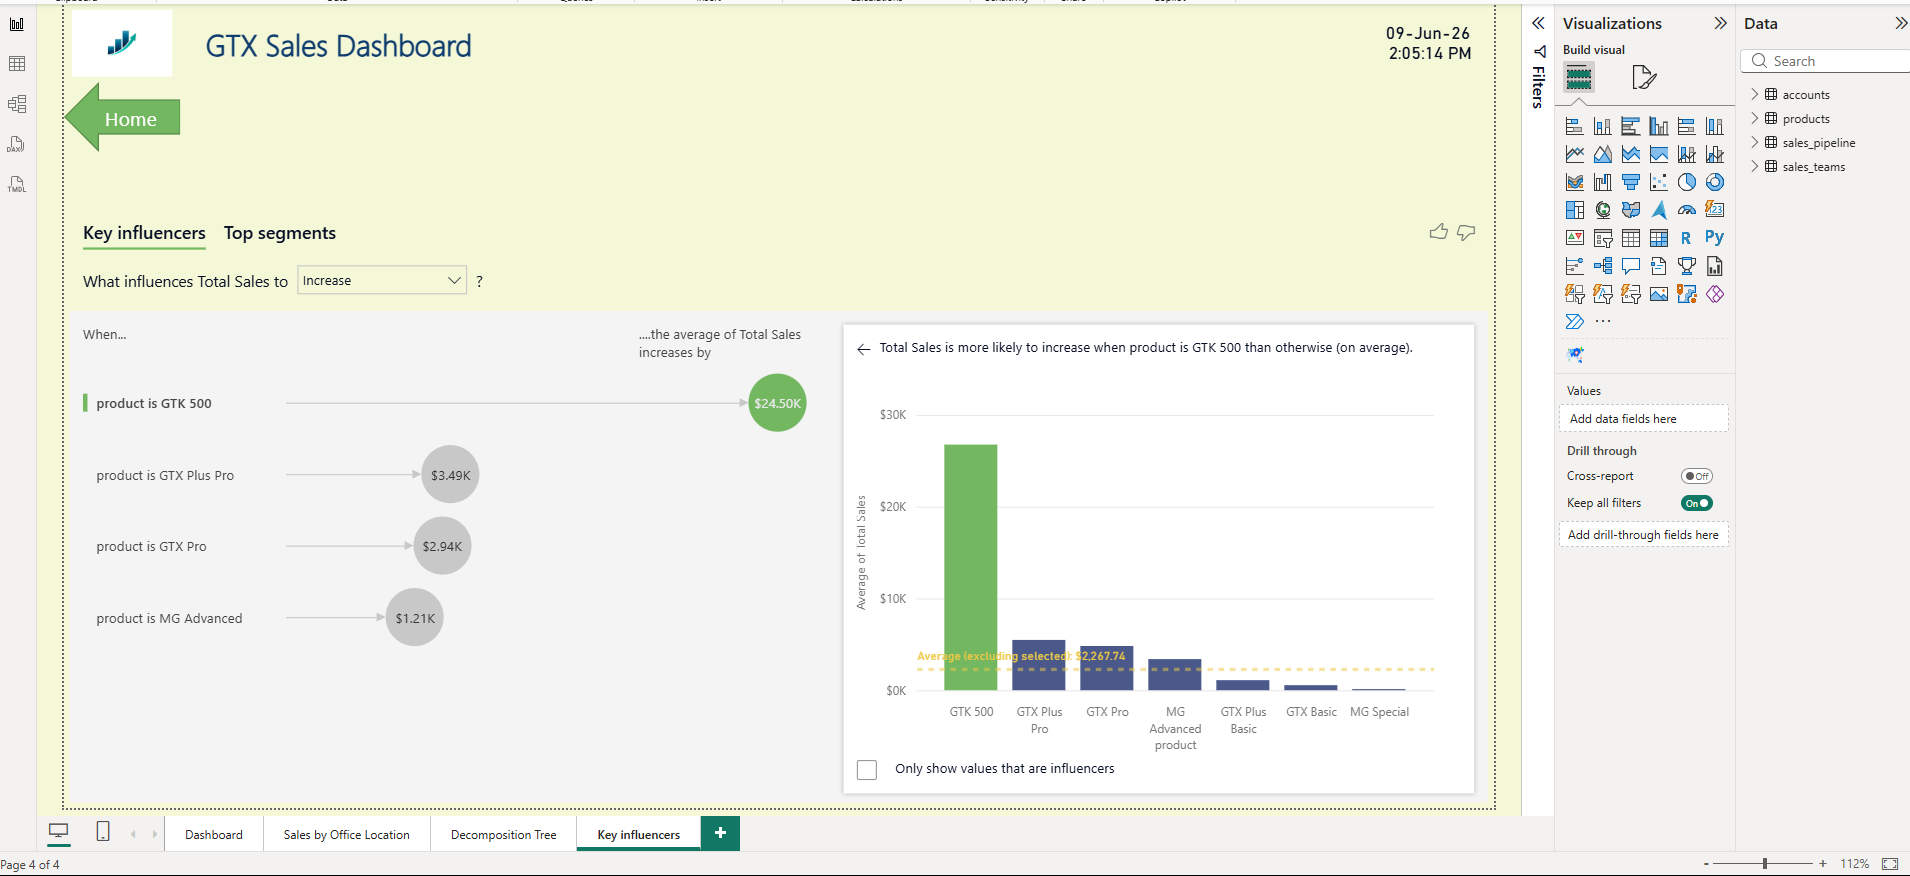

Layout of this report page (visuals, bound fields, positions):
{"tool":"powerbi","page":{"name":"Key influencers","canvas":[1280,720],"ordinal":3},"visuals":[{"type":"keyDriversVisual","fields":{"Target":["sales_pipeline.Total Sales"],"ExplainBy":["sales_pipeline.product"]},"box":[0,180.2,1280.2,539.5],"z":0},{"type":"image","box":[0,0,103.7,70],"z":1000},{"type":"textbox","box":[103.7,12.4,284.6,49.7],"z":2000},{"type":"card","fields":{"Values":["accounts.DateTime"]},"box":[1166.7,0,113.3,70.1],"z":3000},{"type":"shape","box":[0,69.6,104.3,62.6],"z":4000}]}

Visuals, with their boxes on the page's 1280x720 design canvas (x1, y1, x2, y2). These are canvas units, not pixel positions in the 1910x876 screenshot, which may show the page scaled, cropped or inside an application window:
keyDriversVisual - sales_pipeline.Total Sales x sales_pipeline.product: bbox=(0, 180, 1280, 720)
image: bbox=(0, 0, 104, 70)
textbox: bbox=(104, 12, 388, 62)
card - accounts.DateTime: bbox=(1167, 0, 1280, 70)
shape: bbox=(0, 70, 104, 132)
